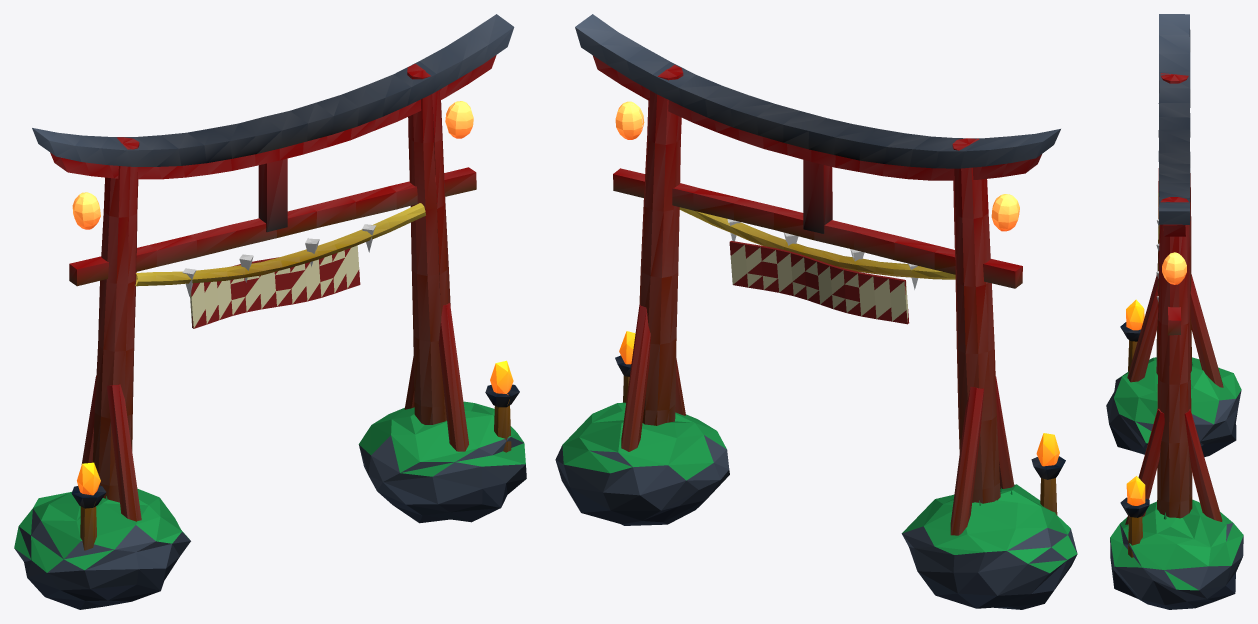
File: riverrush_torii_gate_kinect_2010360.glb
3 views of the same model, side by side, from view 1: azimuth 30°, elevation 25°; view 2: azimuth 150°, elevation 25°; view 3: azimuth 270°, elevation 25° (orthographic). The views are drawn at different scales.
Parts seen in each view (by area): view 1: Gerbang_Checkpoint_Kayu_Jepang; view 2: Gerbang_Checkpoint_Kayu_Jepang; view 3: Gerbang_Checkpoint_Kayu_Jepang.
Part boxes in pixels (x1,y1,x2,y2): Gerbang_Checkpoint_Kayu_Jepang: (14,14,526,609); Gerbang_Checkpoint_Kayu_Jepang: (555,14,1077,609); Gerbang_Checkpoint_Kayu_Jepang: (1106,14,1243,609).
Bounding box in the file's own units: 10.86 × 10.09 × 3.01.
